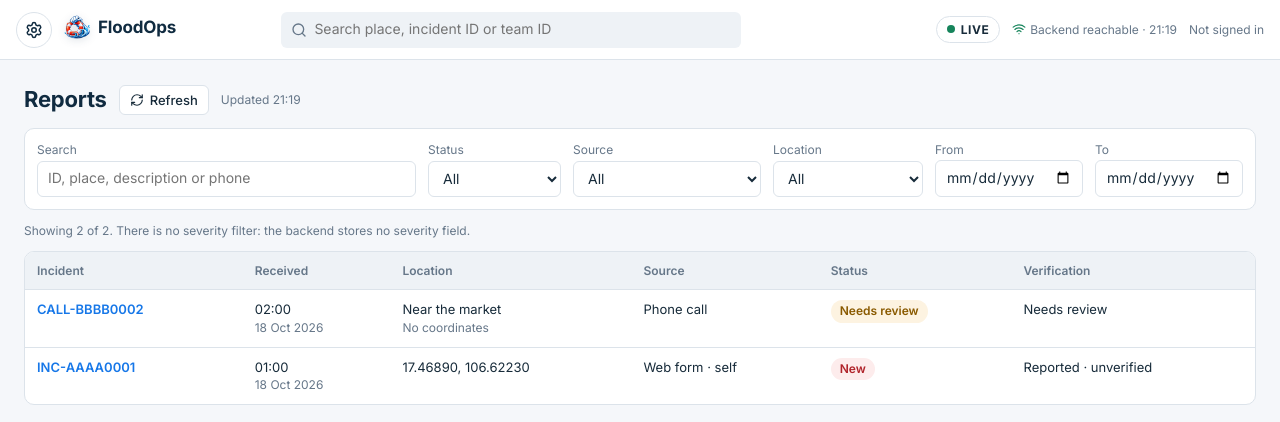
Test: Reports view states › distinguishes no reports from no matches
Expected: the table is shown, [25,252,1255,404]
Type "zzz-no-match" into the search field labelled "Search" at (226,179), box [37,161,416,197]
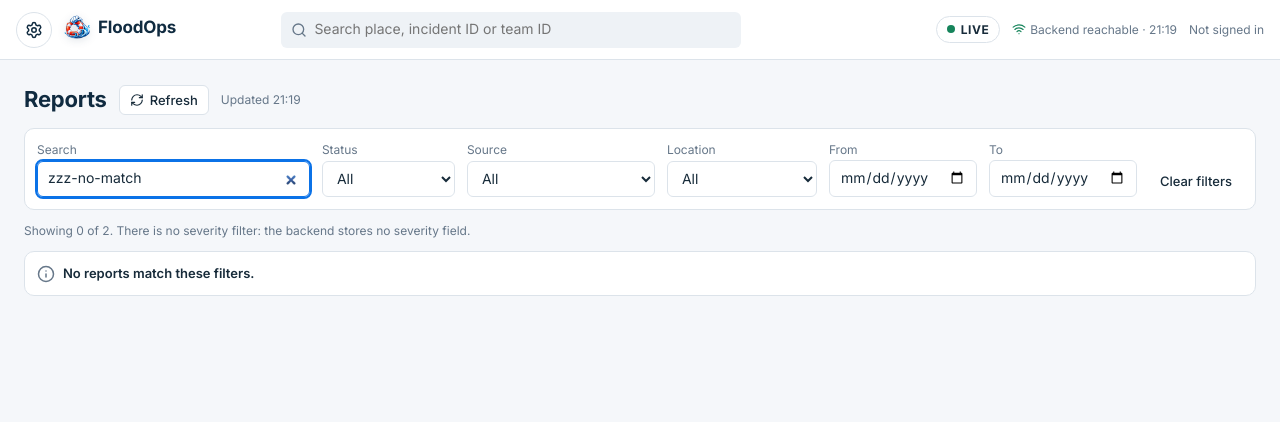
Expected: the text "No reports match these filters." is shown, [63,264,254,283]
